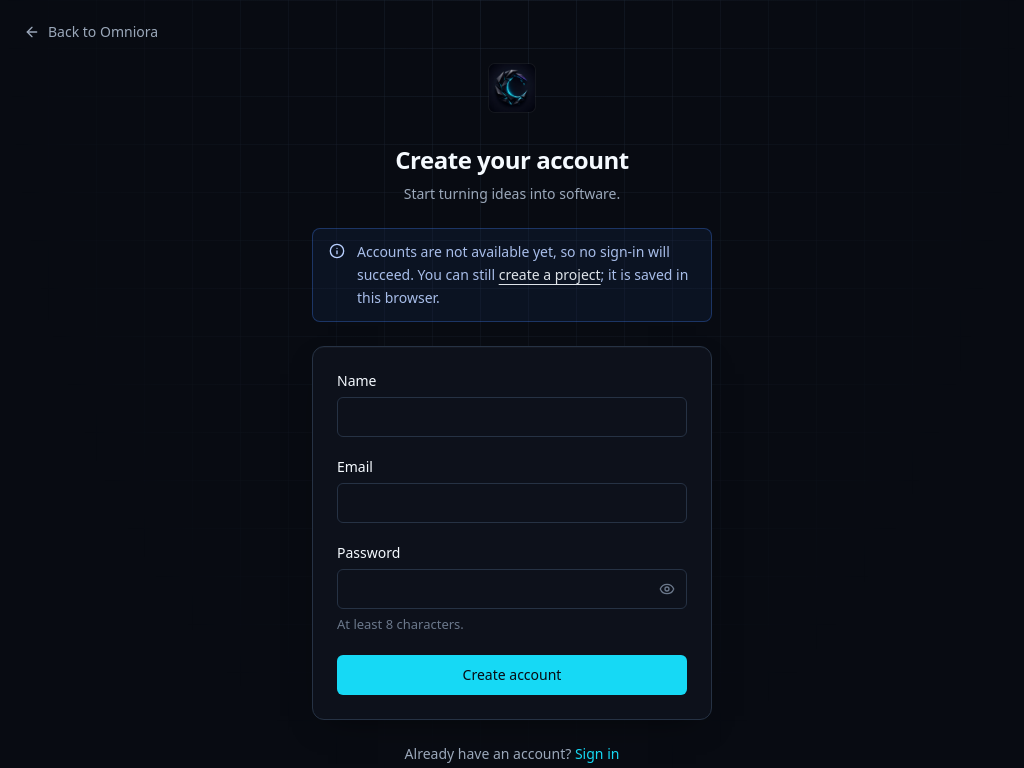
Test: Authentication screens › enforces a minimum password length on registration
This screenshot has width=1024, height=768.
Type "Ada" into the field labelled "Name" at (512, 417), box [337,397,687,437]
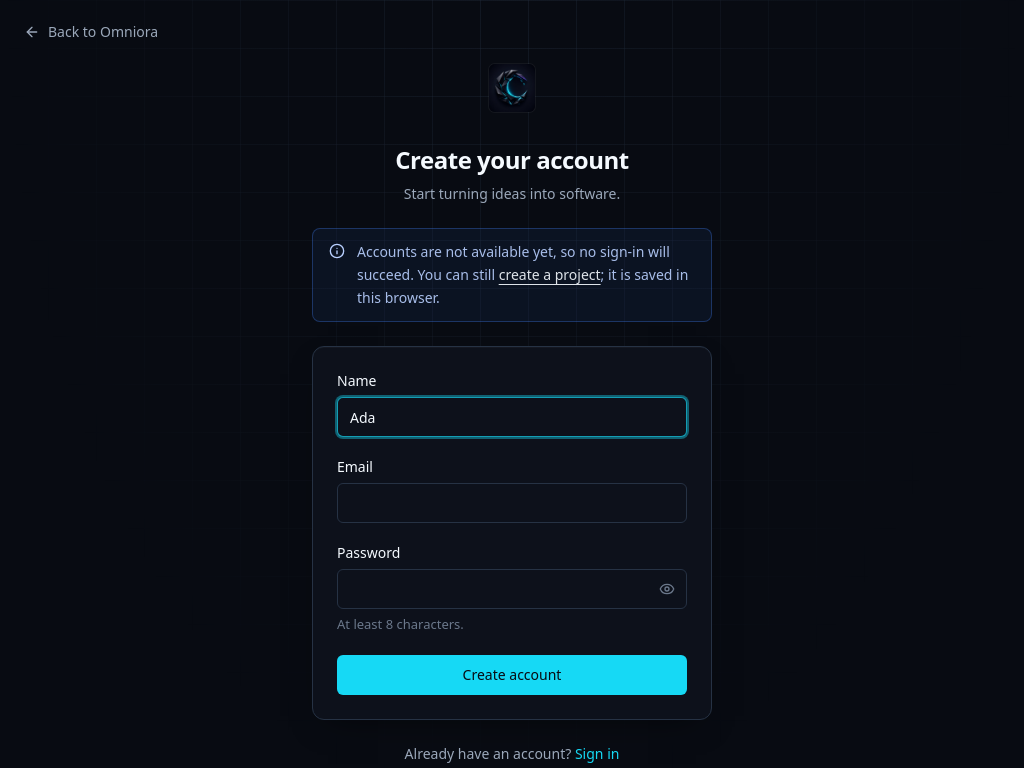
Type "ada@example.com" into the field labelled "Email" at (512, 503), box [337,483,687,523]
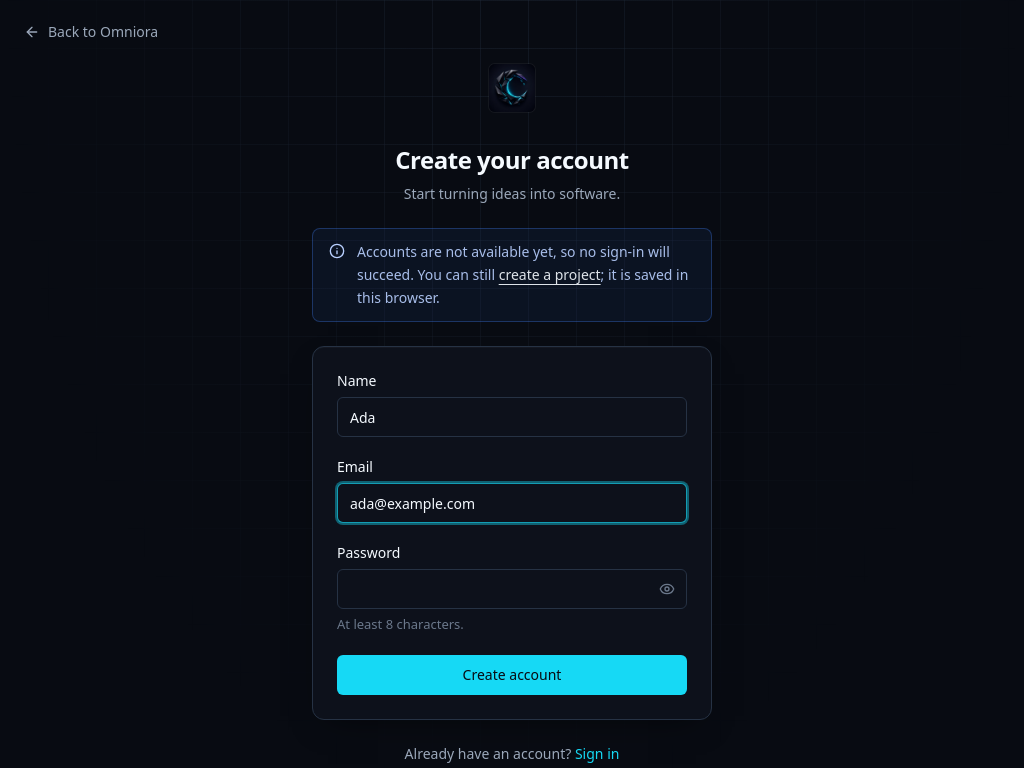
Type "short" into the password field labelled "Password" at (512, 589), box [337,569,687,609]
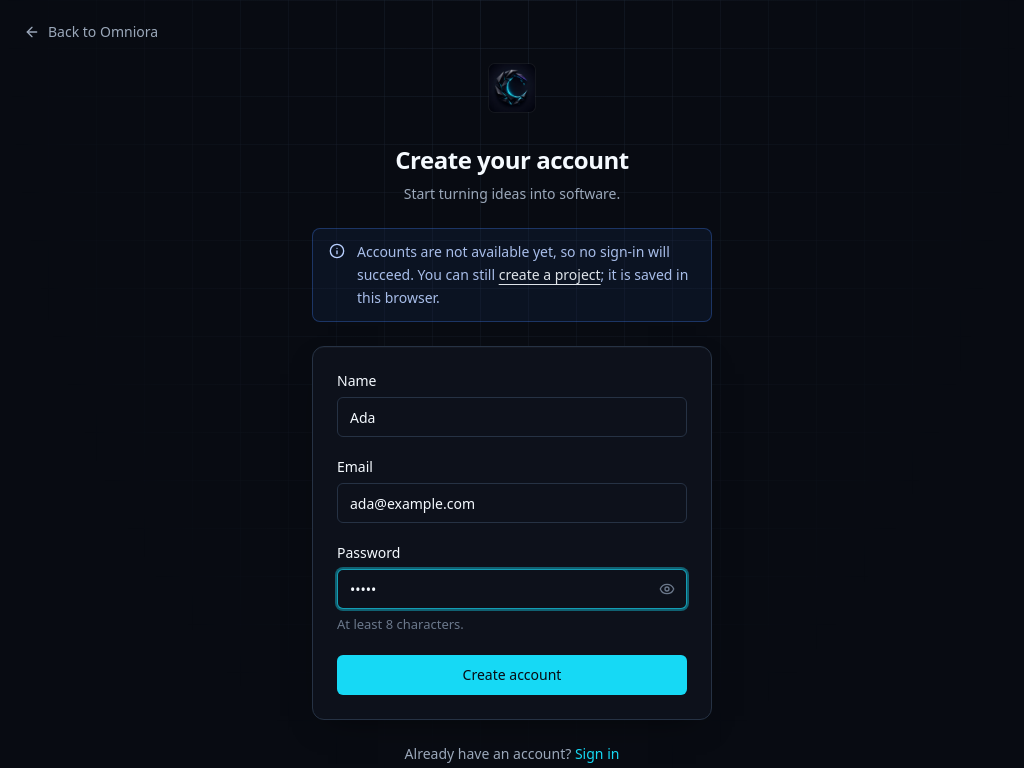
Click the button "Create account" at (512, 675), box [337,655,687,695]
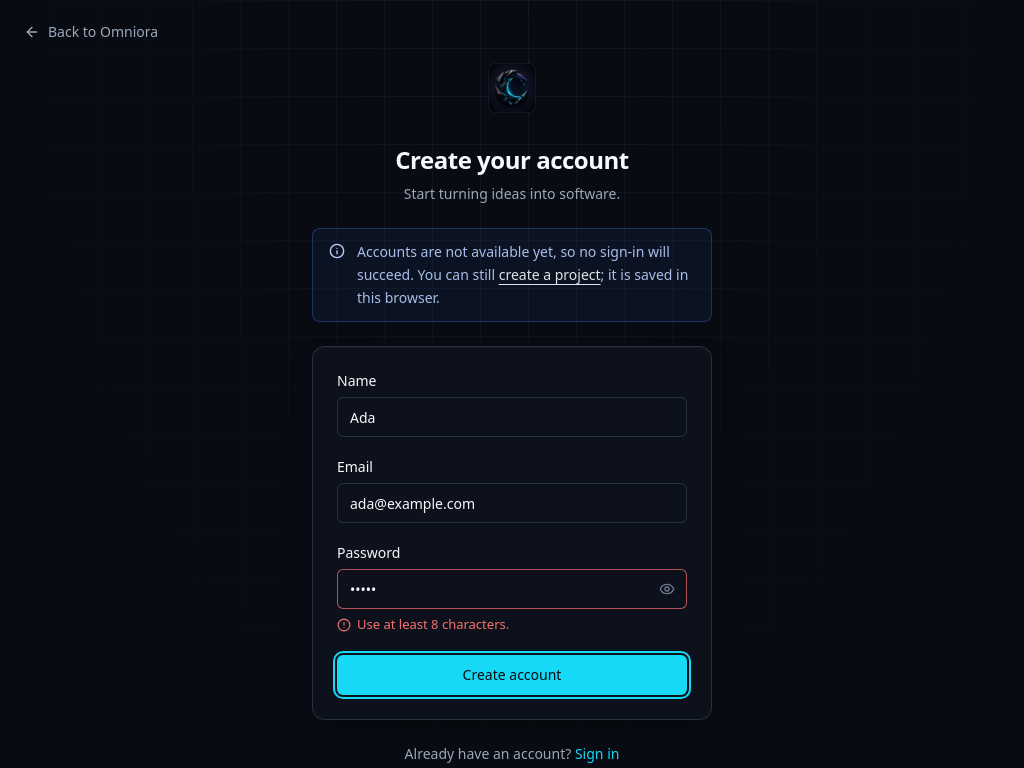
Now the text "Use at least 8 characters." is shown, box [337,615,509,633]
